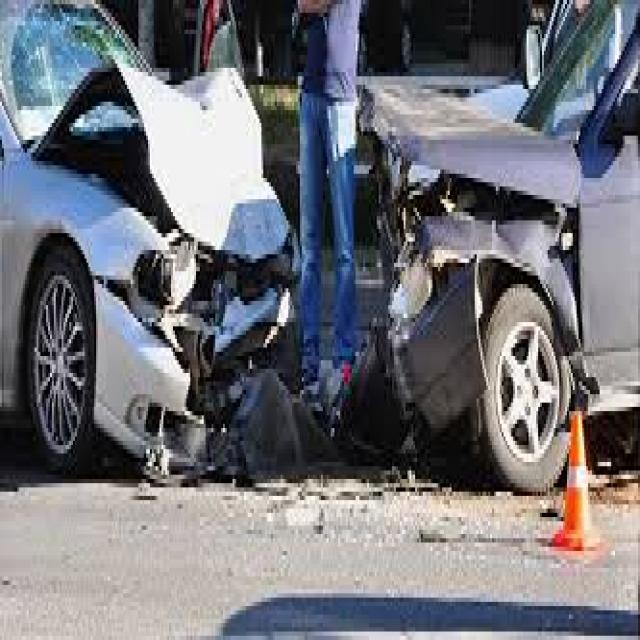accident: (36, 27, 629, 532)
